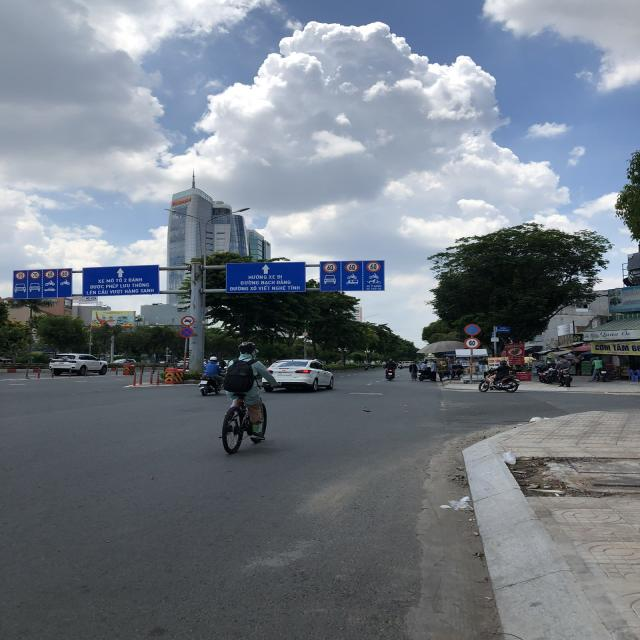Bien bao cam dung xe va do xe: (179, 326, 195, 338)
Bien bao cam xe oto tai: (179, 314, 196, 326)
Bien bao toc do toi da cho phep: (463, 336, 482, 349), (365, 260, 383, 273), (322, 261, 338, 273), (344, 261, 360, 273), (42, 268, 56, 279), (14, 270, 27, 280), (58, 268, 71, 278), (29, 270, 41, 280)
